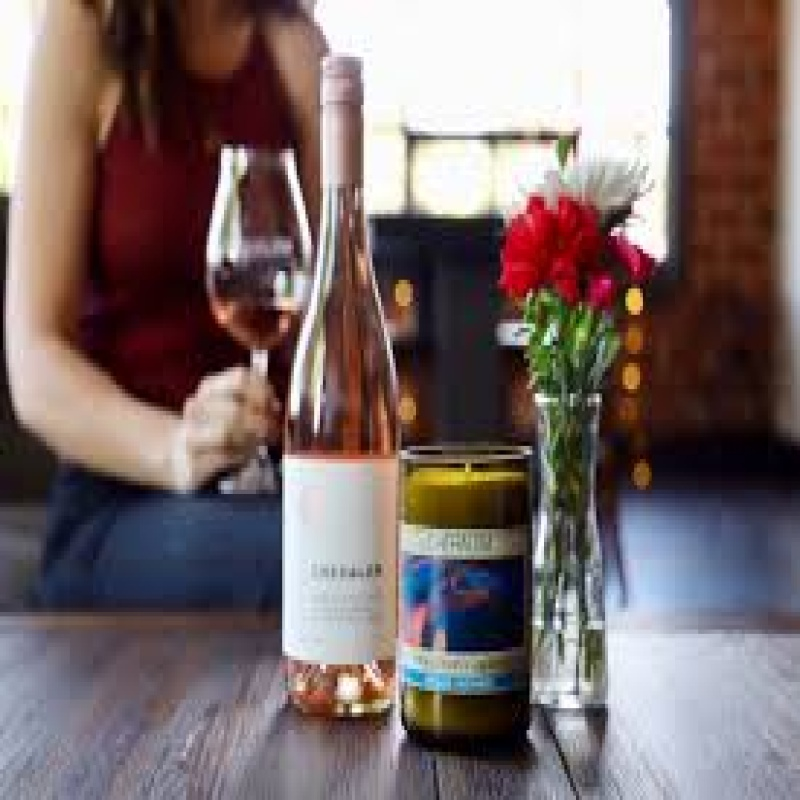wine: (293, 54, 393, 722)
